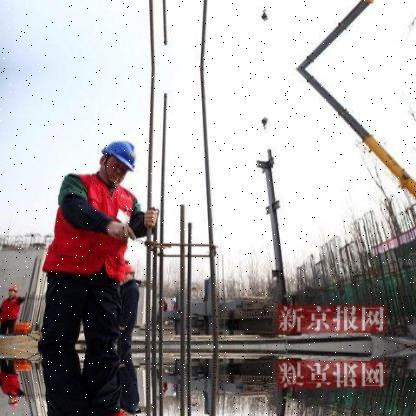Helmet: (92, 133, 146, 194), (119, 264, 136, 288), (4, 282, 21, 299)
